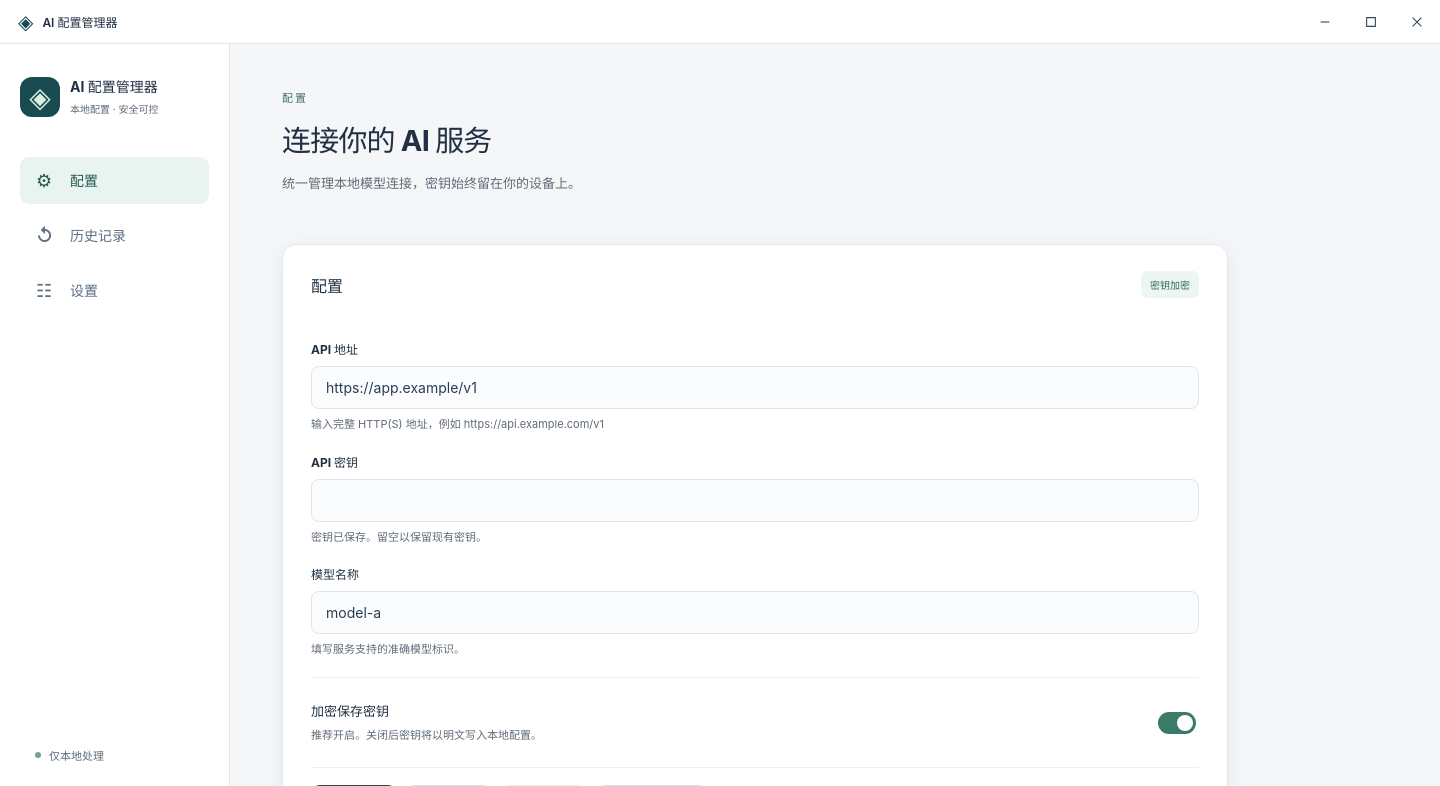
Test: config badge and encryption preference › requires a confirmation to turn encryption off and keeps it on when declined
What coordinates should you click on to do the following:
click the switch labelled "加密保存密钥 推荐开启。关闭后密钥将以明文写入本地配置。"
I would click on:
 (1177, 723)
Its box is top-left (1158, 712), bottom-right (1196, 734).
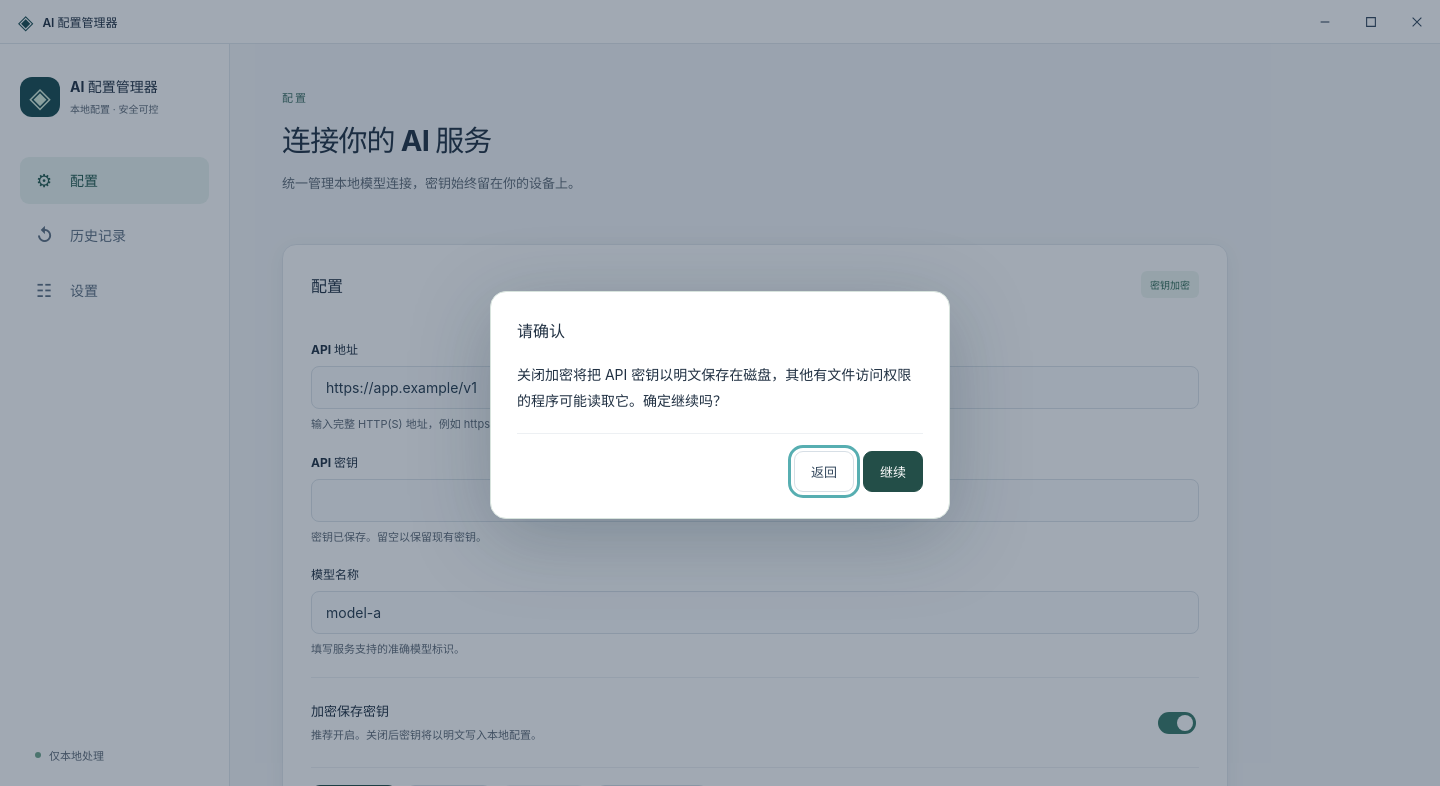
Result: the dialog shows "关闭加密将把 API 密钥以明文保存在磁盘，其他有文件访问权限的程序可能读取它。确定继续吗？" at top-left (517, 366), bottom-right (911, 408)
What coordinates should you click on to do the following:
click the button "返回"
I would click on:
 (824, 471)
Its box is top-left (794, 451), bottom-right (854, 492).
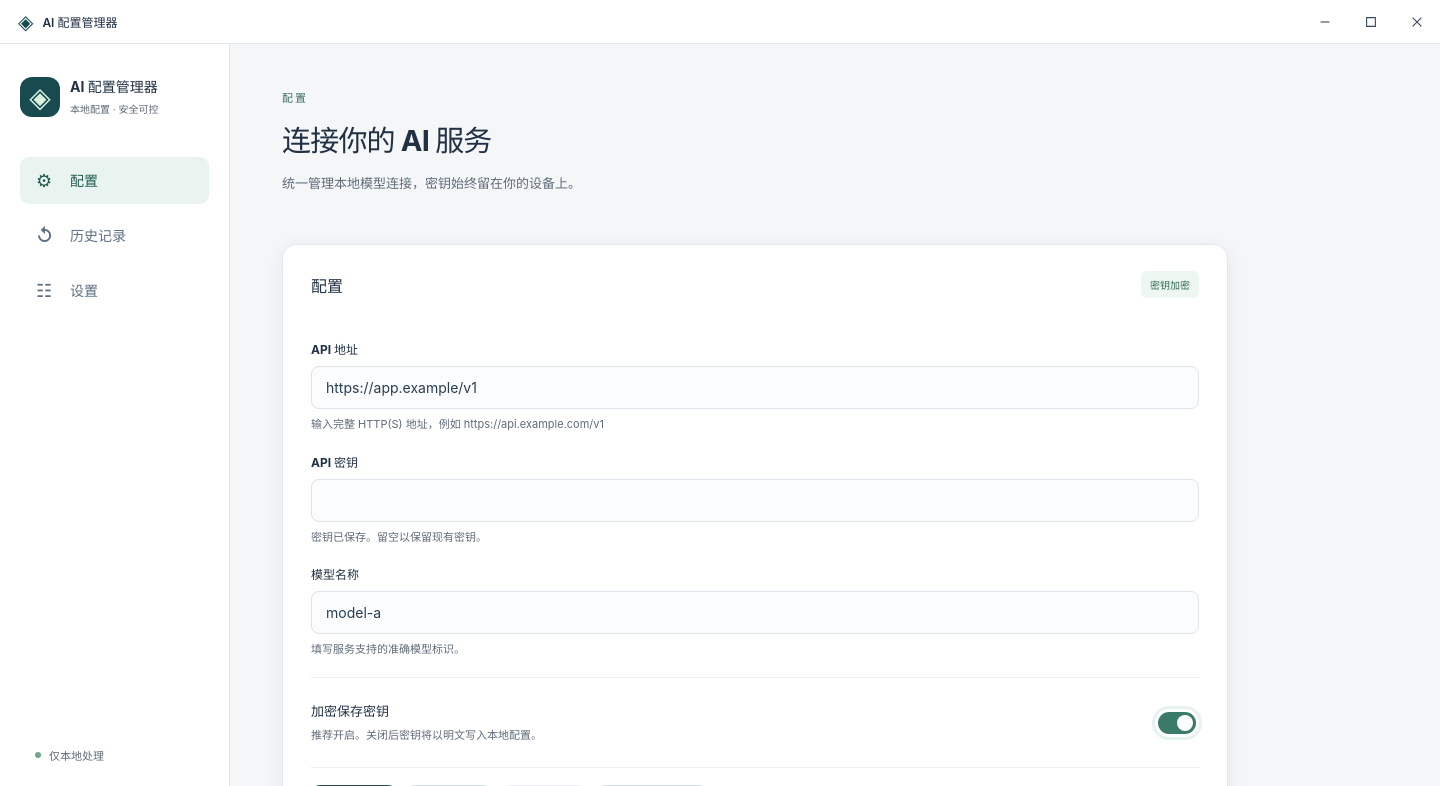
Expected: the text with class "badge" reads "密钥加密", top-left (1150, 279), bottom-right (1190, 291)
Result: the dialog is gone
What coordinates should you click on to do the following:
click the switch labelled "加密保存密钥 推荐开启。关闭后密钥将以明文写入本地配置。"
I would click on:
 (1177, 723)
Its box is top-left (1158, 712), bottom-right (1196, 734).
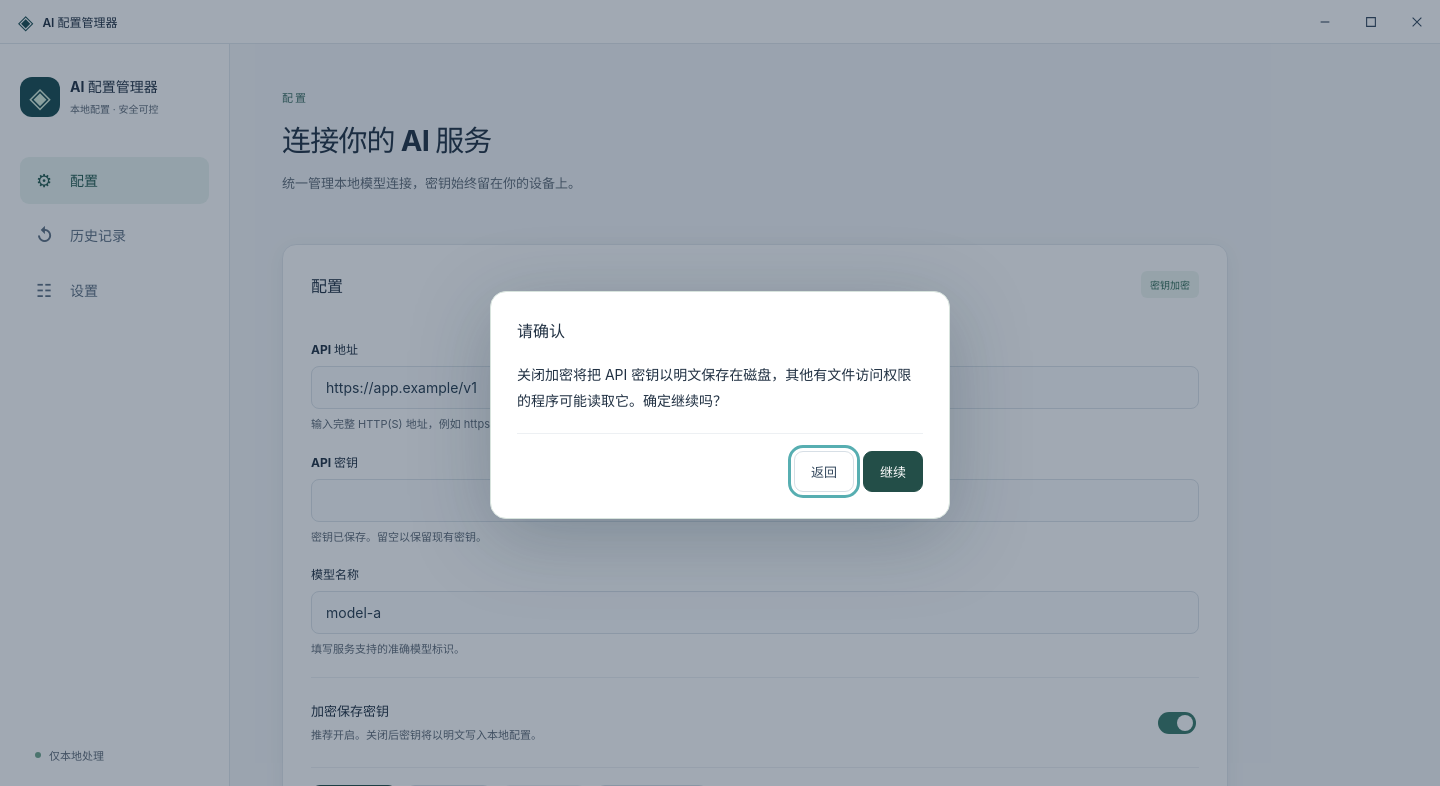
What coordinates should you click on to do the following:
click the button "继续"
I would click on:
 (893, 471)
Its box is top-left (863, 451), bottom-right (923, 492).
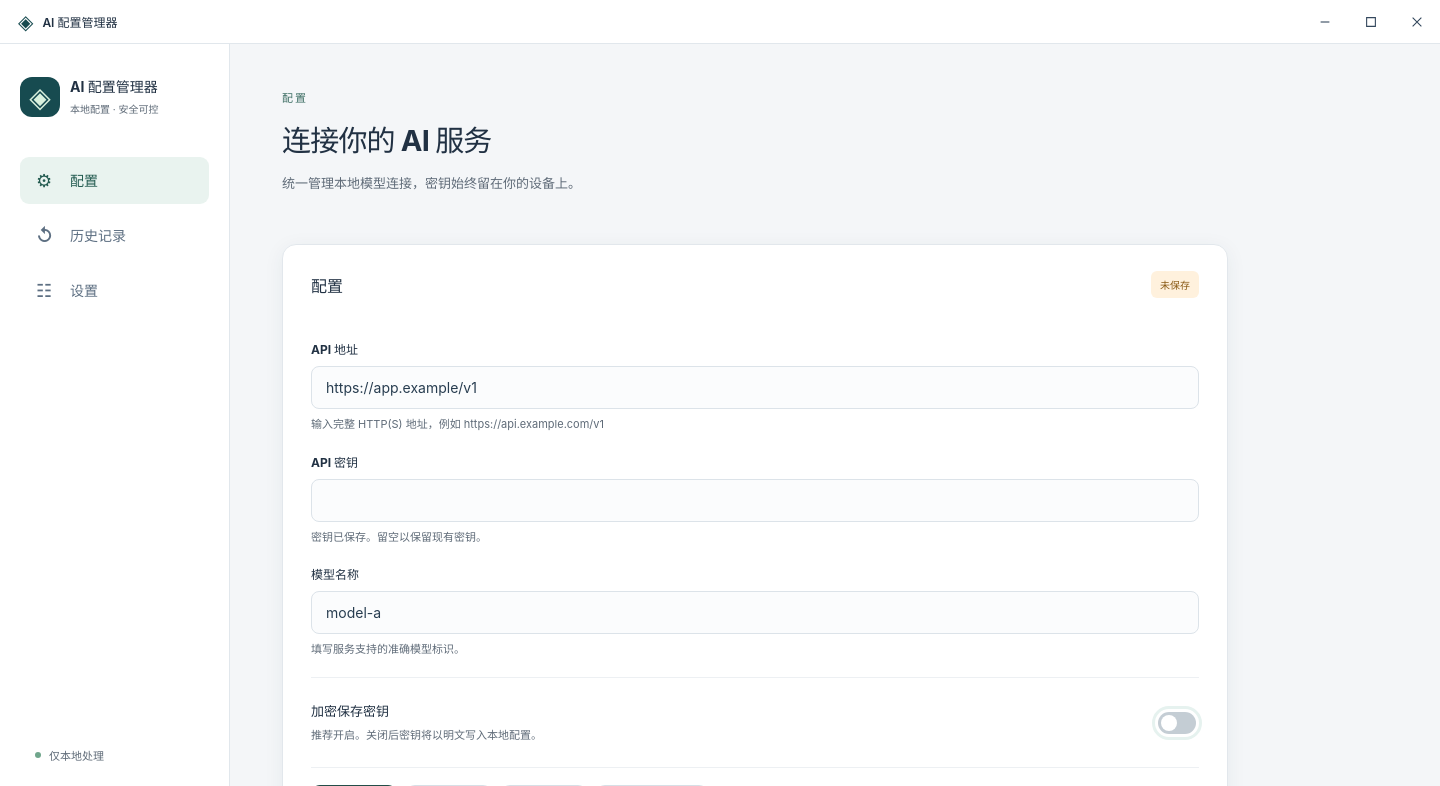
Result: the switch labelled "加密保存密钥 推荐开启。关闭后密钥将以明文写入本地配置。" is not checked at top-left (1158, 712), bottom-right (1196, 734)
Result: the text with class "badge" reads "未保存" at top-left (1160, 279), bottom-right (1190, 291)
